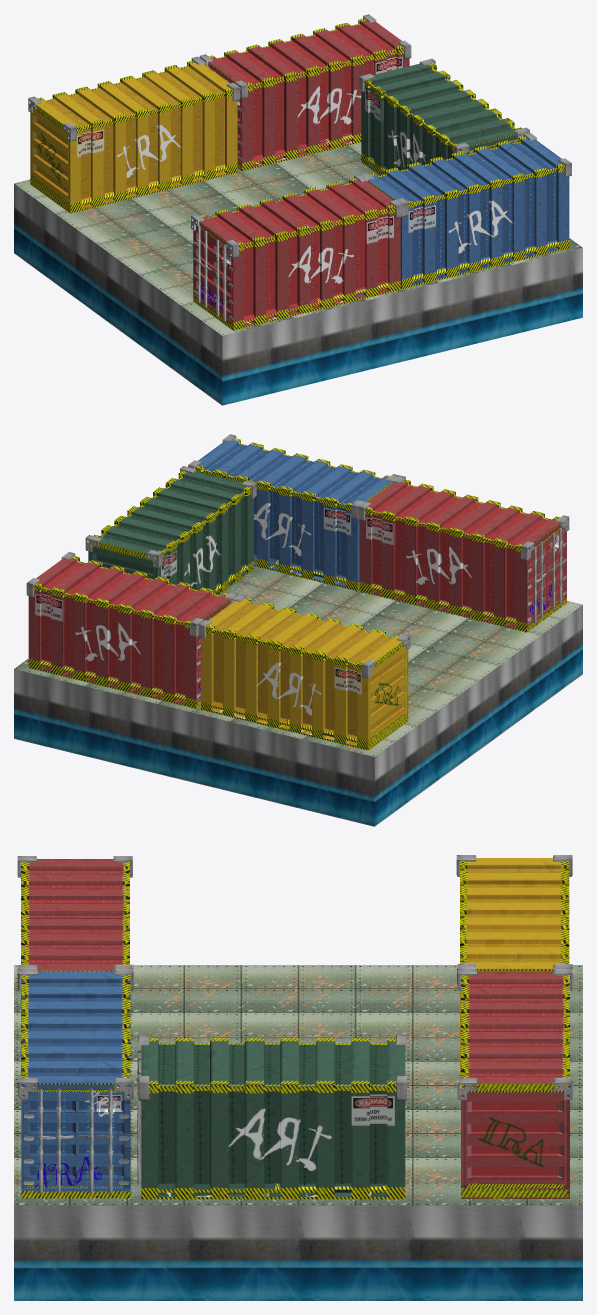
The model's file is tile U shape(1).fbx.
3 views of the same model, one above another, from view 1: azimuth 30°, elevation 25°; view 2: azimuth 150°, elevation 25°; view 3: azimuth 270°, elevation 25° (orthographic). The views are drawn at different scales.
Parts seen in each view (by area): view 1: Cube, Cube.001, Cube.003, Cube.002, Cube.004, Cube.005; view 2: Cube, Cube.001, Cube.003, Cube.004, Cube.002, Cube.005; view 3: Cube, Cube.005, Cube.002, Cube.004, Cube.003, Cube.001.
Boxes of the visible parts, bbox=[...] form: Cube: bbox=[14, 142, 582, 405]; Cube.001: bbox=[191, 173, 402, 330]; Cube.003: bbox=[28, 56, 239, 213]; Cube.002: bbox=[360, 132, 571, 289]; Cube.004: bbox=[199, 14, 411, 171]; Cube.005: bbox=[359, 58, 529, 175]; Cube: bbox=[14, 566, 582, 826]; Cube.001: bbox=[357, 475, 569, 632]; Cube.003: bbox=[198, 593, 410, 750]; Cube.004: bbox=[26, 552, 238, 708]; Cube.002: bbox=[188, 434, 399, 591]; Cube.005: bbox=[85, 466, 256, 595]; Cube: bbox=[14, 965, 582, 1300]; Cube.005: bbox=[136, 1034, 406, 1199]; Cube.002: bbox=[18, 969, 133, 1198]; Cube.004: bbox=[457, 969, 573, 1198]; Cube.003: bbox=[456, 855, 572, 1077]; Cube.001: bbox=[17, 856, 133, 1077].
Size of the model in its own units: 20000 by 8250 by 20000.
